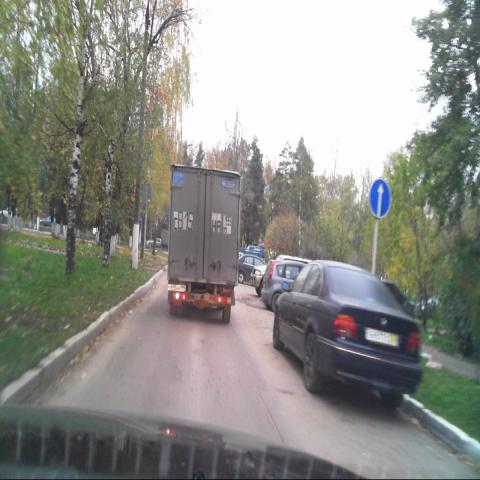4_1_1: (369, 181, 390, 218)
